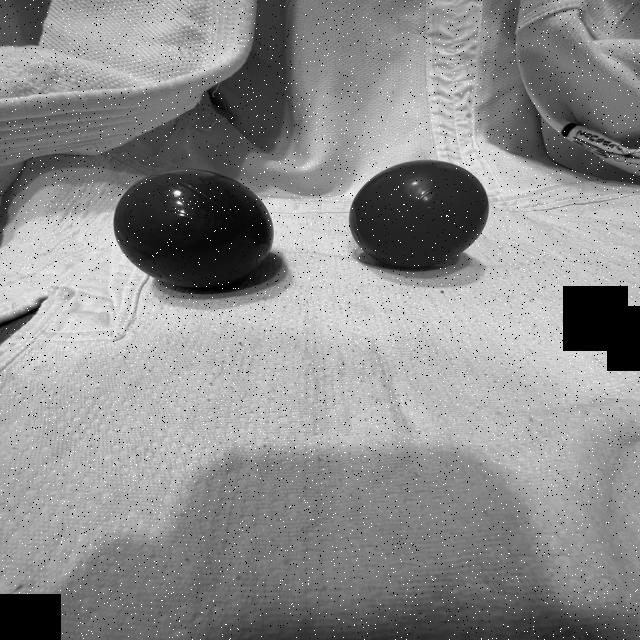ball: (110, 167, 277, 292), (346, 158, 492, 270)
